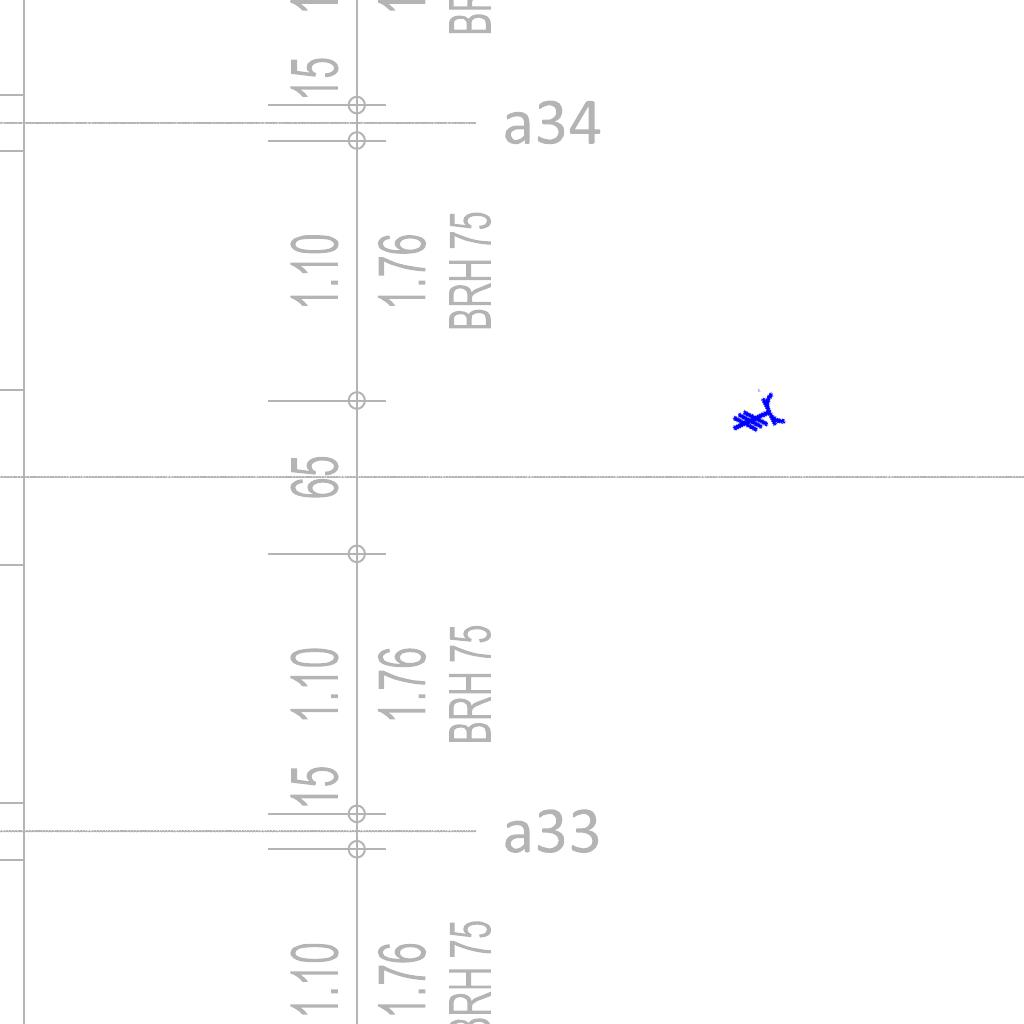CEE_Drehstrom_Steckdose_16_32_A: (721, 382, 788, 446)
